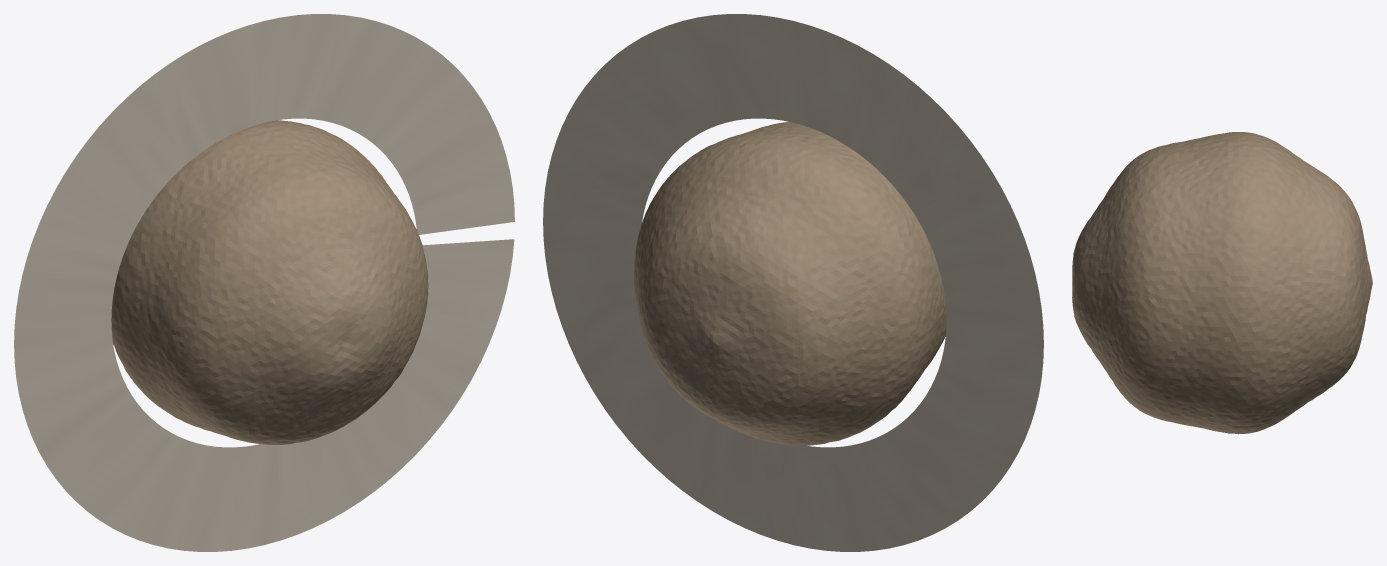
Rendered from planet_5.glb.
The picture shows the model from 3 angles, left to right: view 1: azimuth 30°, elevation 25°; view 2: azimuth 150°, elevation 25°; view 3: azimuth 270°, elevation 25°; orthographic projection. The views are drawn at different scales.
Parts seen in each view (by area): view 1: world; view 2: world; view 3: world.
Part boxes in pixels (<box>): world: <box>14,14,514,551</box>; world: <box>543,14,1043,551</box>; world: <box>1072,132,1372,434</box>.
Size of the model in its own units: 3.6 by 3.6 by 2.01.
